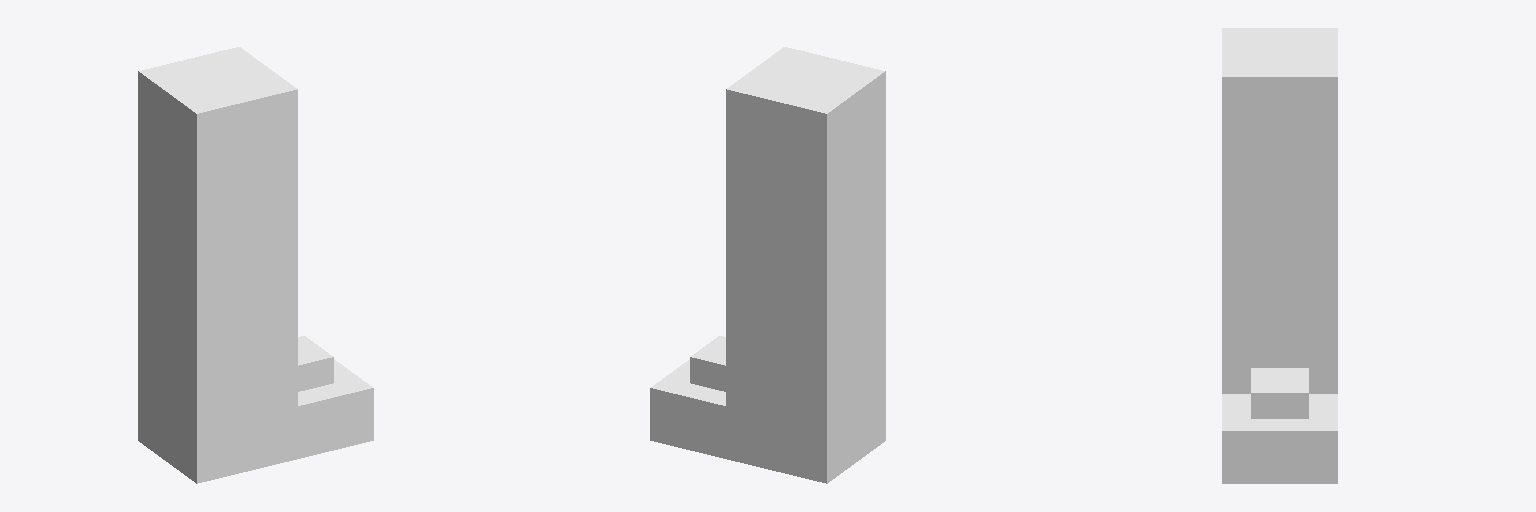
Rendered from armyguyleftleg1.obj.
3 renders of one model, left to right at view 1: azimuth 30°, elevation 25°; view 2: azimuth 150°, elevation 25°; view 3: azimuth 270°, elevation 25°, orthographic.
Visible parts, largest first — view 1: armyguyleftleg1; view 2: armyguyleftleg1; view 3: armyguyleftleg1.
Boxes of the visible parts, x1=… form: armyguyleftleg1: x1=138, y1=47, x2=373, y2=483; armyguyleftleg1: x1=650, y1=47, x2=885, y2=483; armyguyleftleg1: x1=1222, y1=28, x2=1337, y2=483.
Bounding box in the file's own units: 7 × 14 × 4.